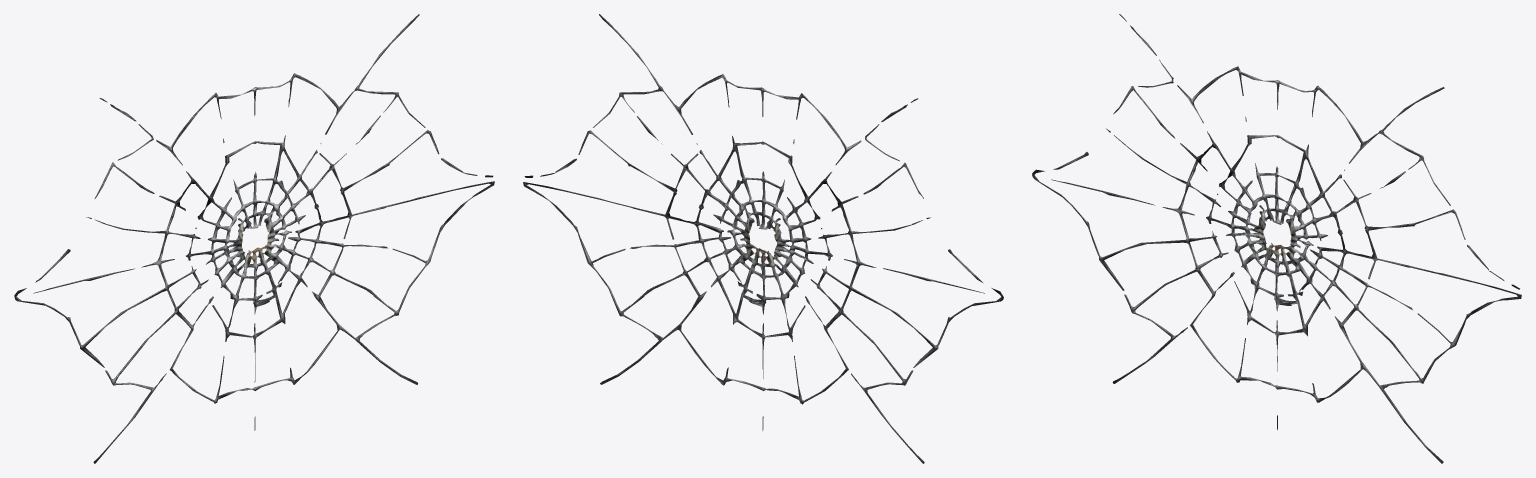
File: spiderweb.glb
The picture shows the model from 3 angles, left to right: view 1: azimuth 30°, elevation 25°; view 2: azimuth 150°, elevation 25°; view 3: azimuth 330°, elevation 25°; orthographic projection.
Parts seen in each view (by area): view 1: Mesh_0; view 2: Mesh_0; view 3: Mesh_0.
Part boxes in pixels (bbox=[...]): Mesh_0: bbox=[14, 14, 494, 463]; Mesh_0: bbox=[523, 14, 1003, 463]; Mesh_0: bbox=[1032, 14, 1521, 463].
Bounding box in the file's own units: 2.03 × 1.52 × 0.0151.
Materials: 1 (1 with a texture image).
